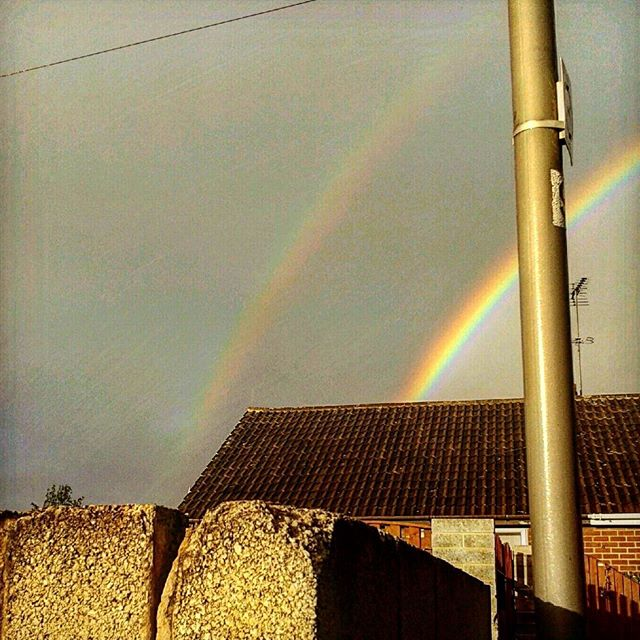building: (231, 406, 640, 640)
rainbow: (147, 28, 509, 510), (399, 152, 640, 394)
sky: (1, 1, 627, 397)
